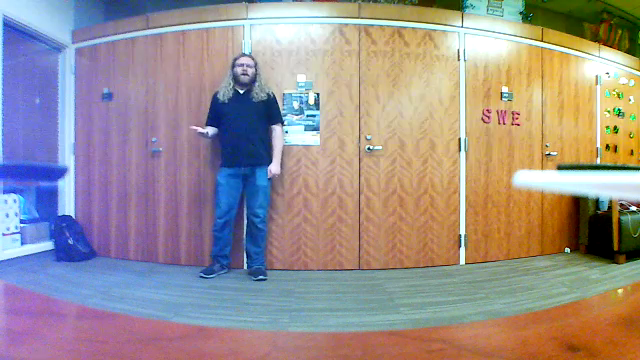land: (181, 119, 210, 138)
